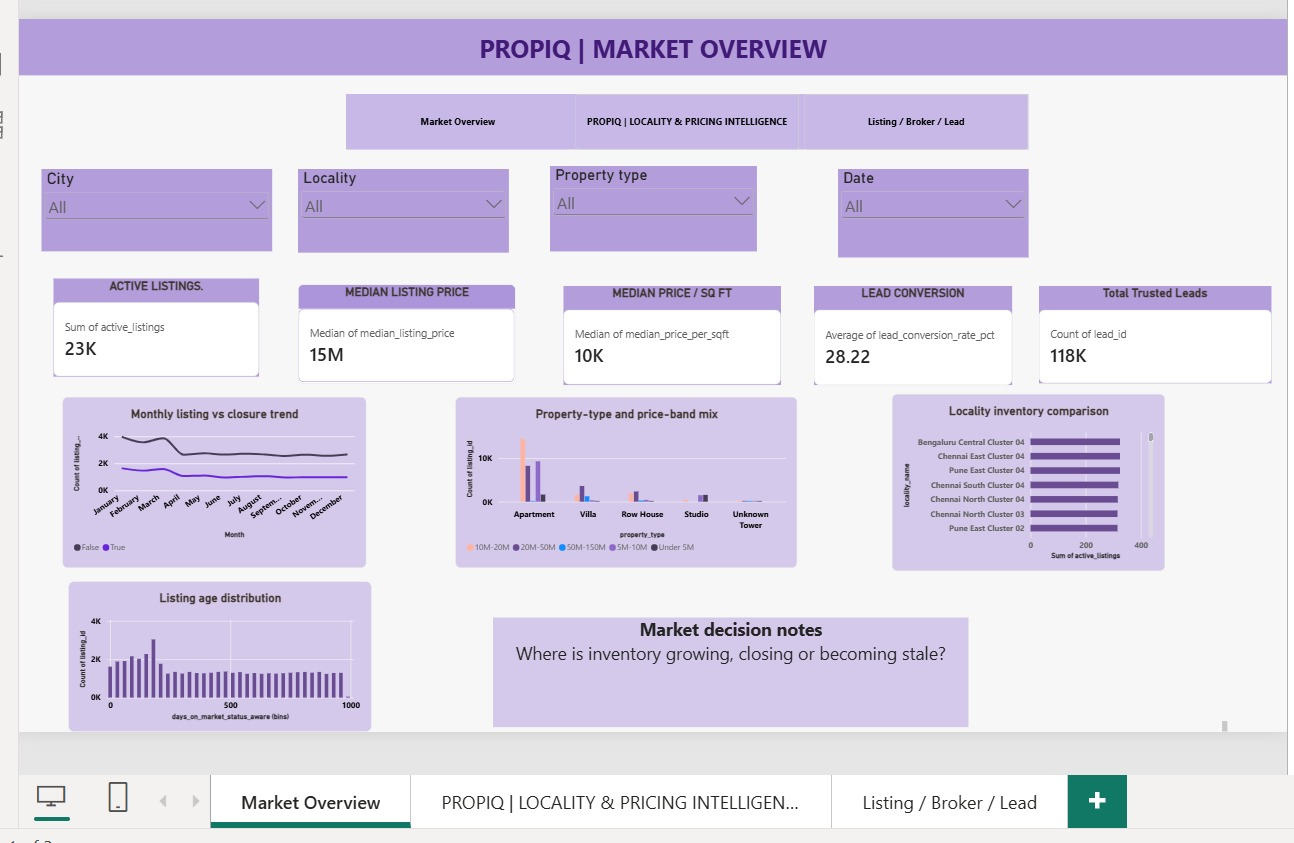

Layout of this report page (visuals, bound fields, positions):
{"tool":"powerbi","page":{"name":"Market Overview","canvas":[1920,1080],"ordinal":0},"visuals":[{"type":"actionButton","box":[0,0,100,40],"z":0},{"type":"textbox","box":[150,800,300,280],"z":1000},{"type":"textbox","box":[0,180,150,300],"z":2000},{"type":"textbox","box":[0,490,150,300],"z":3000},{"type":"textbox","box":[0,800,150,280],"z":4000},{"type":"textbox","box":[600,490,300,300],"z":5000},{"type":"textbox","box":[600,800,300,280],"z":6000},{"type":"textbox","box":[450,490,150,300],"z":7000},{"type":"textbox","box":[450,800,150,280],"z":8000},{"type":"textbox","box":[1220,800,300,280],"z":9000},{"type":"textbox","box":[1816.9,1064.1,12.7,16.3],"z":10000},{"type":"textbox","box":[0,0,1920.1,85.1],"z":11000},{"type":"slicer","fields":{"Values":["gold_dim_locality.city"]},"box":[34.1,227.1,349.3,124.9],"z":12000},{"type":"slicer","fields":{"Values":["gold_dim_locality.locality_name"]},"box":[422.5,227.1,319.4,126.7],"z":13000},{"type":"slicer","fields":{"Values":["gold_dim_property.property_type"]},"box":[804,222.6,313.4,129.5],"z":14000},{"type":"slicer","fields":{"Values":["gold_dim_date.date_key"]},"box":[1240.1,227.1,288.5,134],"z":15000},{"type":"cardVisual","title":"Total Trusted Leads","fields":{"Data":["CountNonNull(gold_fact_lead.lead_id)"]},"box":[1544.5,404.3,352.1,147.6],"z":16000},{"type":"lineChart","title":"Monthly listing vs closure trend","fields":{"Category":["gold_fact_listing.listing_created_date.Variation.Date Hierarchy.Month"],"Series":["gold_fact_listing.is_completed"],"Y":["CountNonNull(gold_fact_listing.listing_id)"]},"box":[65.9,572.4,459.8,258.8],"z":17000},{"type":"clusteredColumnChart","title":"Property-type and price-band mix","fields":{"Category":["gold_dim_property.property_type"],"Series":["gold_dim_price_band.price_band"],"Y":["CountNonNull(gold_fact_listing.listing_id)"]},"box":[661,572.4,517.6,258.8],"z":18000},{"type":"clusteredBarChart","title":"Locality inventory comparison","fields":{"Category":["gold_locality_price_summary.locality_name"],"Y":["Sum(gold_locality_price_summary.active_listings)"]},"box":[1321.9,567.8,413.4,268],"z":19000},{"type":"clusteredColumnChart","title":"Listing age distribution","fields":{"Category":["gold_fact_listing.days_on_market_status_aware (bins)"],"Y":["CountNonNull(gold_fact_listing.listing_id)"]},"box":[75,851.7,458.8,227.1],"z":20000},{"type":"textbox","box":[717.7,906.3,720,165.8],"z":22000},{"type":"cardVisual","title":"ACTIVE LISTINGS.","fields":{"Data":["Sum(gold_locality_price_summary.active_listings)"]},"box":[52.2,392.9,311.3,148.4],"z":22001},{"type":"cardVisual","title":"MEDIAN LISTING PRICE","fields":{"Data":["Median(gold_locality_price_summary.median_listing_price)"]},"box":[422.5,402,329.3,149.9],"z":22002},{"type":"cardVisual","title":"MEDIAN PRICE / SQ FT","fields":{"Data":["Median(gold_locality_price_summary.median_price_per_sqft)"]},"box":[824.5,404.3,329.3,149.9],"z":22003},{"type":"cardVisual","title":"LEAD CONVERSION","fields":{"Data":["Avg(gold_lead_conversion_summary.lead_conversion_rate_pct)"]},"box":[1203.8,404.3,300,150],"z":22004},{"type":"pageNavigator","box":[495.1,113.6,1033.4,84],"z":22005}]}

Visuals, with their boxes on the page's 1920x1080 design canvas (x1, y1, x2, y2). These are canvas units, not pixel positions in the 1294x843 screenshot, which may show the page scaled, cropped or inside an application window:
actionButton: (0,0,100,40)
textbox: (150,800,450,1080)
textbox: (0,180,150,480)
textbox: (0,490,150,790)
textbox: (0,800,150,1080)
textbox: (600,490,900,790)
textbox: (600,800,900,1080)
textbox: (450,490,600,790)
textbox: (450,800,600,1080)
textbox: (1220,800,1520,1080)
textbox: (1817,1064,1830,1080)
textbox: (0,0,1920,85)
slicer - gold_dim_locality.city: (34,227,383,352)
slicer - gold_dim_locality.locality_name: (422,227,742,354)
slicer - gold_dim_property.property_type: (804,223,1117,352)
slicer - gold_dim_date.date_key: (1240,227,1529,361)
"Total Trusted Leads" cardVisual: (1544,404,1897,552)
"Monthly listing vs closure trend" lineChart: (66,572,526,831)
"Property-type and price-band mix" clusteredColumnChart: (661,572,1179,831)
"Locality inventory comparison" clusteredBarChart: (1322,568,1735,836)
"Listing age distribution" clusteredColumnChart: (75,852,534,1079)
textbox: (718,906,1438,1072)
"ACTIVE LISTINGS." cardVisual: (52,393,364,541)
"MEDIAN LISTING PRICE" cardVisual: (422,402,752,552)
"MEDIAN PRICE / SQ FT" cardVisual: (824,404,1154,554)
"LEAD CONVERSION" cardVisual: (1204,404,1504,554)
pageNavigator: (495,114,1528,198)
